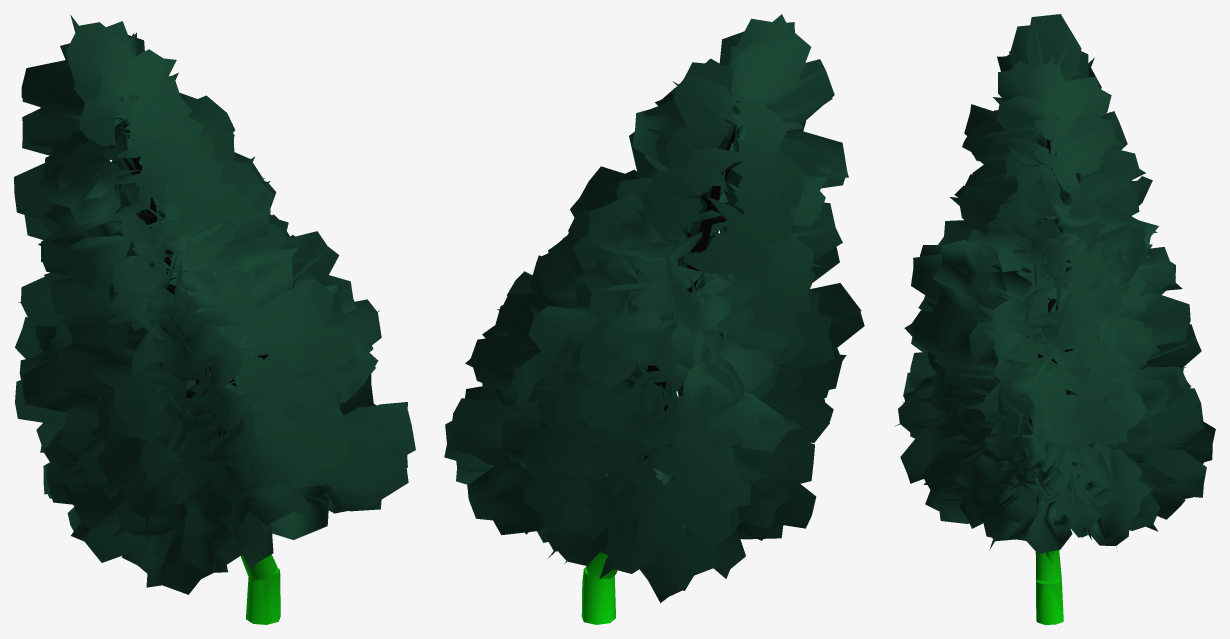
File: TreeFall1.fbx
3 views of the same model, side by side, from view 1: azimuth 30°, elevation 25°; view 2: azimuth 150°, elevation 25°; view 3: azimuth 270°, elevation 25° (orthographic). The views are drawn at different scales.
Visible parts, largest first — view 1: SM_FirTree1_LOD1, SM_FirTree1_LOD1.001; view 2: SM_FirTree1_LOD1, SM_FirTree1_LOD1.001; view 3: SM_FirTree1_LOD1, SM_FirTree1_LOD1.001.
Boxes of the visible parts, x1=… form: SM_FirTree1_LOD1: x1=14, y1=14, x2=415, y2=594; SM_FirTree1_LOD1.001: x1=246, y1=567, x2=280, y2=624; SM_FirTree1_LOD1: x1=444, y1=14, x2=864, y2=602; SM_FirTree1_LOD1.001: x1=581, y1=567, x2=615, y2=624; SM_FirTree1_LOD1: x1=894, y1=14, x2=1215, y2=580; SM_FirTree1_LOD1.001: x1=1036, y1=578, x2=1063, y2=624.
Bounding box in the file's own units: 1158 × 1980 × 1089.
